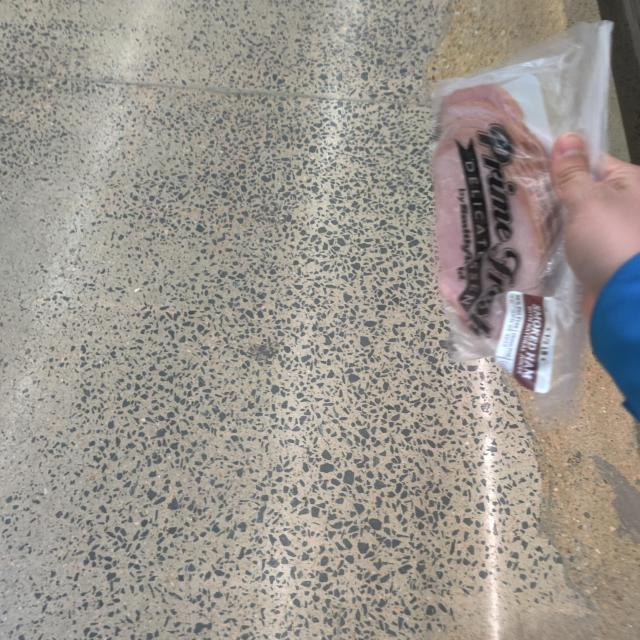Meat: (423, 47, 614, 397)
